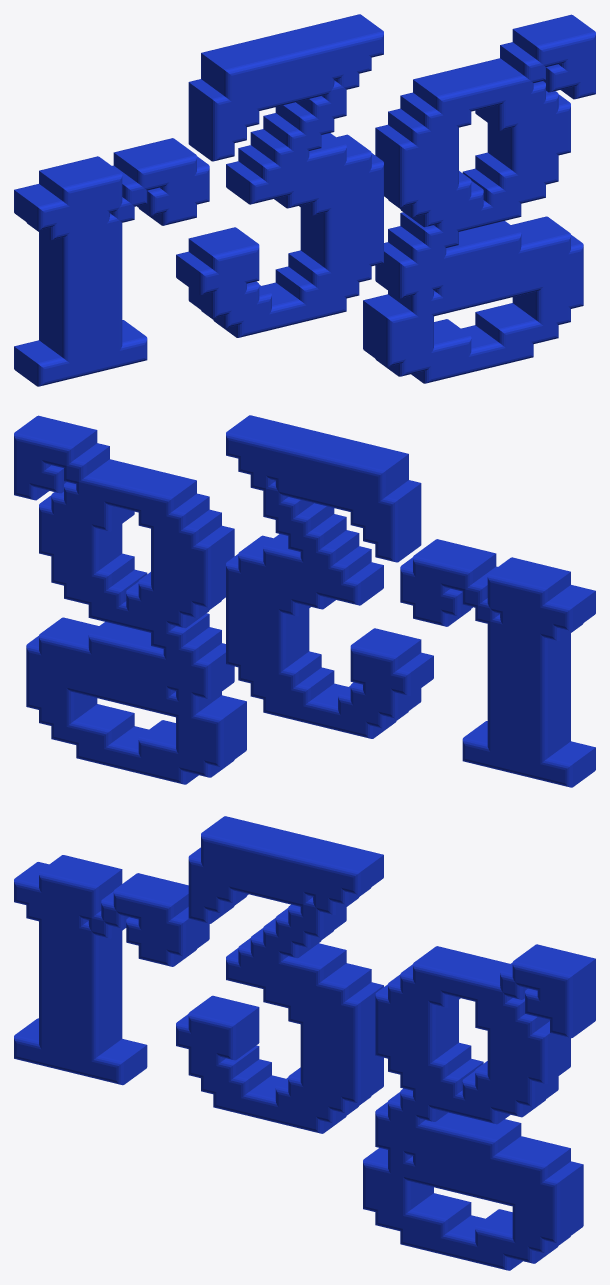
3 renders of one model, top to bottom at view 1: azimuth 30°, elevation 25°; view 2: azimuth 150°, elevation 25°; view 3: azimuth 330°, elevation 25°, orthographic.
Visible parts, largest first — view 1: r3g-model; view 2: r3g-model; view 3: r3g-model.
Part boxes in pixels (bbox=[...]): r3g-model: bbox=[14, 14, 595, 386]; r3g-model: bbox=[14, 415, 595, 787]; r3g-model: bbox=[14, 816, 595, 1270].
Bounding box in the file's own units: 4.35 × 2.7 × 0.3785.
